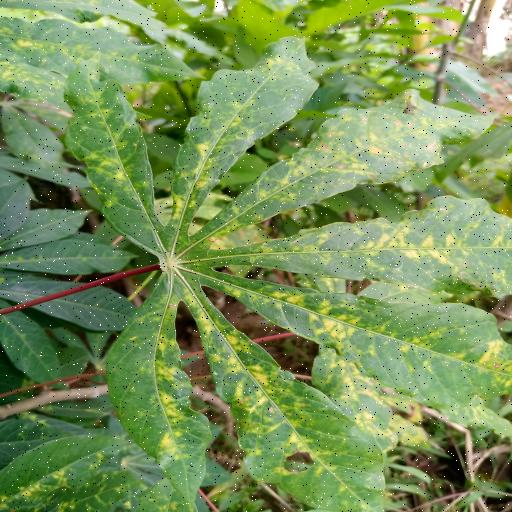Cassava_Mosaic: (65, 41, 512, 503)
